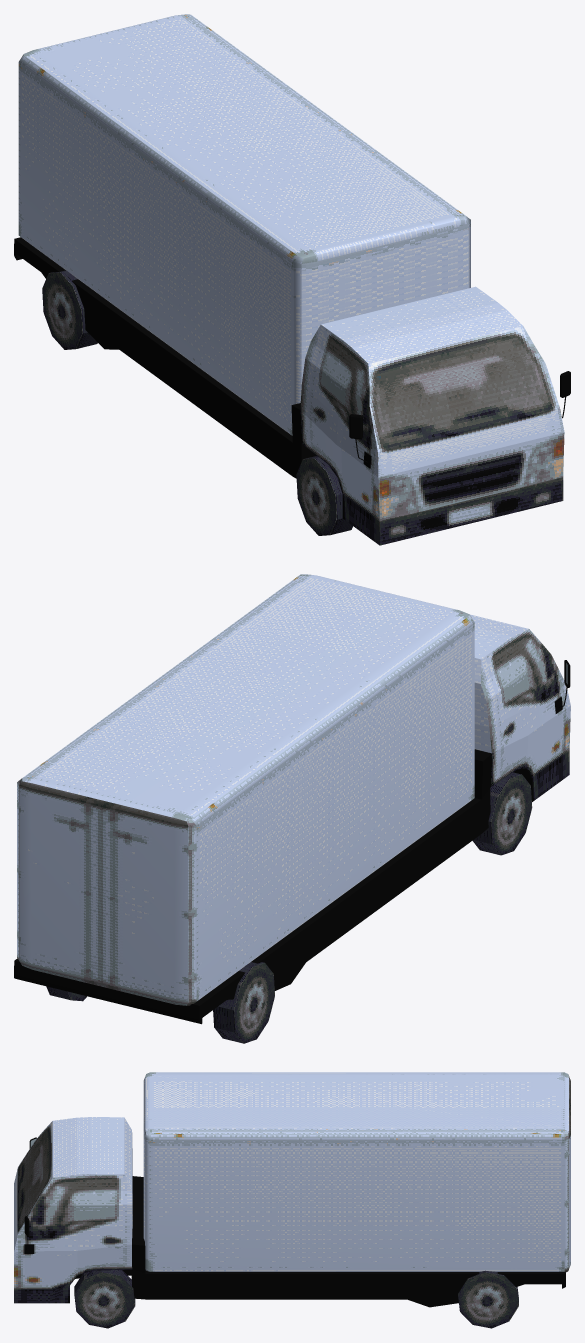
File: psx_-_truck.glb
3 renders of one model, top to bottom at view 1: azimuth 30°, elevation 25°; view 2: azimuth 150°, elevation 25°; view 3: azimuth 270°, elevation 25°, orthographic. The views are drawn at different scales.
Visible parts, largest first — view 1: pCube15; view 2: pCube15; view 3: pCube15.
Part boxes in pixels (bbox=[...]): pCube15: bbox=[14, 14, 570, 545]; pCube15: bbox=[14, 574, 570, 1043]; pCube15: bbox=[14, 1072, 570, 1328].
Size of the model in its own units: 0.0305 by 0.0345 by 0.0903.
2 materials, 1 textured.
